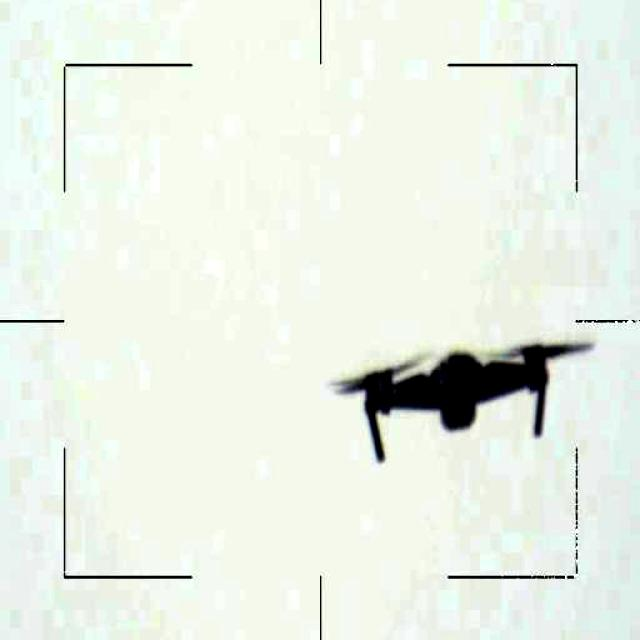bird: (315, 332, 591, 469)
